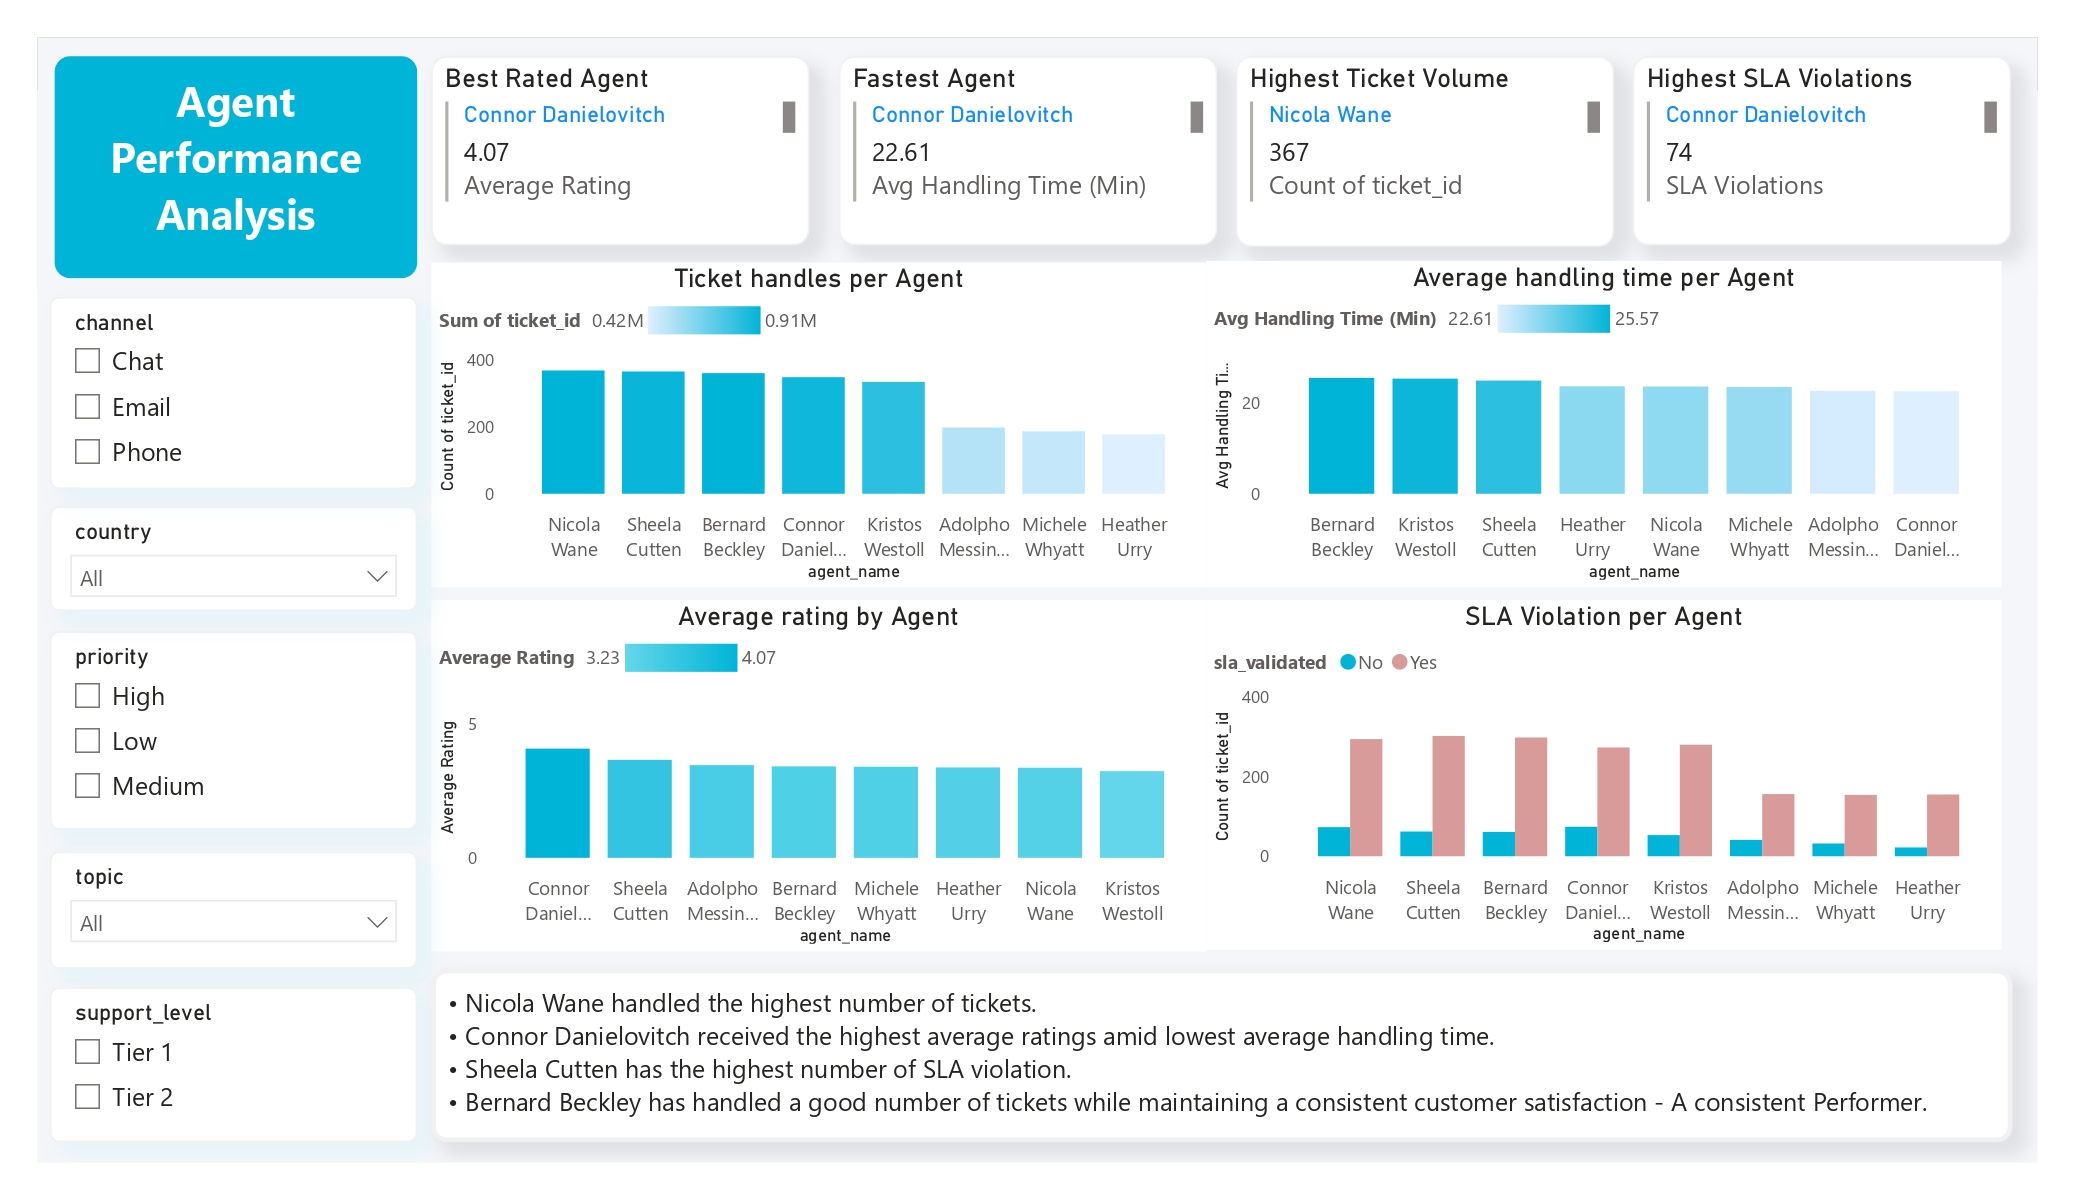

This screenshot's page, from the dashboard's own definition file:
{"tool":"powerbi","page":{"name":"Agent Performance","canvas":[1280,720],"ordinal":1},"visuals":[{"type":"multiRowCard","title":"Best Rated Agent","fields":{"Values":["Final cleaned Sheet.agent_name","Final cleaned Sheet.Average Rating"]},"box":[252,12,242,121],"z":0},{"type":"multiRowCard","title":"Fastest Agent","fields":{"Values":["Final cleaned Sheet.agent_name","Final cleaned Sheet.Avg Handling Time (Min)"]},"box":[513,12,242,121],"z":1000},{"type":"multiRowCard","title":"Highest Ticket Volume","fields":{"Values":["Final cleaned Sheet.agent_name","CountNonNull(Final cleaned Sheet.ticket_id)"]},"box":[767,12,242,122],"z":2000},{"type":"multiRowCard","title":"Highest SLA Violations","fields":{"Values":["Final cleaned Sheet.agent_name","Final cleaned Sheet.SLA Violations"]},"box":[1021,12,242,121],"z":3000},{"type":"clusteredColumnChart","title":"Ticket handles per Agent","fields":{"Category":["Final cleaned Sheet.agent_name"],"Y":["CountNonNull(Final cleaned Sheet.ticket_id)"]},"box":[252,143.9,495.9,208.2],"z":4000},{"type":"clusteredColumnChart","title":"Average handling time per Agent","fields":{"Category":["Final cleaned Sheet.agent_name"],"Y":["Final cleaned Sheet.Avg Handling Time (Min)"]},"box":[748.2,143.4,508.4,208.4],"z":5000},{"type":"columnChart","title":"Average rating by Agent","fields":{"Category":["Final cleaned Sheet.agent_name"],"Y":["Final cleaned Sheet.Average Rating"]},"box":[252,360.2,495.9,224.5],"z":6000},{"type":"clusteredColumnChart","title":"SLA Violation per Agent","fields":{"Category":["Final cleaned Sheet.agent_name"],"Series":["Final cleaned Sheet.resolution_sla_validation"],"Y":["CountNonNull(Final cleaned Sheet.ticket_id)"]},"box":[748.2,360.2,508.4,224.1],"z":7000},{"type":"slicer","fields":{"Values":["Final cleaned Sheet.priority"]},"box":[8,380,235,127],"z":8000},{"type":"slicer","fields":{"Values":["Final cleaned Sheet.topic"]},"box":[8,521,235,75],"z":9000},{"type":"slicer","fields":{"Values":["Final cleaned Sheet.support_level"]},"box":[8,608,235,99],"z":10000},{"type":"slicer","fields":{"Values":["Final cleaned Sheet.country"]},"box":[8,300,235,67],"z":11000},{"type":"slicer","fields":{"Values":["Final cleaned Sheet.channel"]},"box":[8,166.3,235.4,123.2],"z":12000},{"type":"textbox","box":[251.8,596.4,1012,110.8],"z":13000},{"type":"textbox","box":[11,12,232.4,142.2],"z":14000}]}

Visuals, with their boxes on the page's 1280x720 design canvas (x1, y1, x2, y2). These are canvas units, not pixel positions in the 2075x1200 screenshot, which may show the page scaled, cropped or inside an application window:
"Best Rated Agent" multiRowCard: bbox=(252, 12, 494, 133)
"Fastest Agent" multiRowCard: bbox=(513, 12, 755, 133)
"Highest Ticket Volume" multiRowCard: bbox=(767, 12, 1009, 134)
"Highest SLA Violations" multiRowCard: bbox=(1021, 12, 1263, 133)
"Ticket handles per Agent" clusteredColumnChart: bbox=(252, 144, 748, 352)
"Average handling time per Agent" clusteredColumnChart: bbox=(748, 143, 1257, 352)
"Average rating by Agent" columnChart: bbox=(252, 360, 748, 585)
"SLA Violation per Agent" clusteredColumnChart: bbox=(748, 360, 1257, 584)
slicer - Final cleaned Sheet.priority: bbox=(8, 380, 243, 507)
slicer - Final cleaned Sheet.topic: bbox=(8, 521, 243, 596)
slicer - Final cleaned Sheet.support_level: bbox=(8, 608, 243, 707)
slicer - Final cleaned Sheet.country: bbox=(8, 300, 243, 367)
slicer - Final cleaned Sheet.channel: bbox=(8, 166, 243, 290)
textbox: bbox=(252, 596, 1264, 707)
textbox: bbox=(11, 12, 243, 154)
